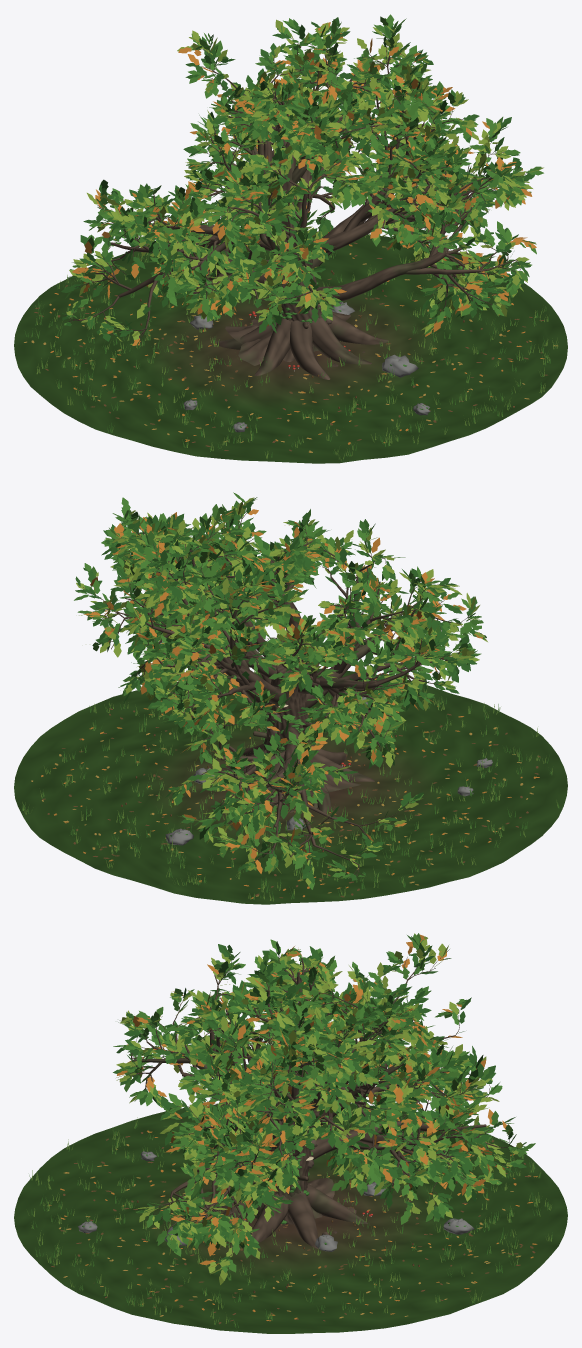
File: ancient_oak.glb
The picture shows the model from 3 angles, top to bottom: view 1: azimuth 30°, elevation 25°; view 2: azimuth 150°, elevation 25°; view 3: azimuth 270°, elevation 25°; orthographic projection.
Visible parts, largest first — view 1: Foliage, Ground, Trunk_Branches_Roots, Details; view 2: Foliage, Ground, Trunk_Branches_Roots, Details; view 3: Foliage, Ground, Trunk_Branches_Roots, Details.
Boxes of the visible parts, x1,y1,x2,y2 form: Foliage: (61, 14, 543, 345); Ground: (14, 230, 567, 463); Trunk_Branches_Roots: (65, 28, 527, 379); Details: (140, 270, 464, 432); Foliage: (74, 492, 487, 889); Ground: (14, 668, 567, 904); Trunk_Branches_Roots: (83, 503, 470, 878); Details: (121, 696, 492, 852); Foliage: (113, 933, 535, 1284); Ground: (14, 1103, 567, 1333); Trunk_Branches_Roots: (128, 952, 522, 1262); Details: (78, 1135, 474, 1293).
Size of the model in its own units: 18 by 11.47 by 18.
